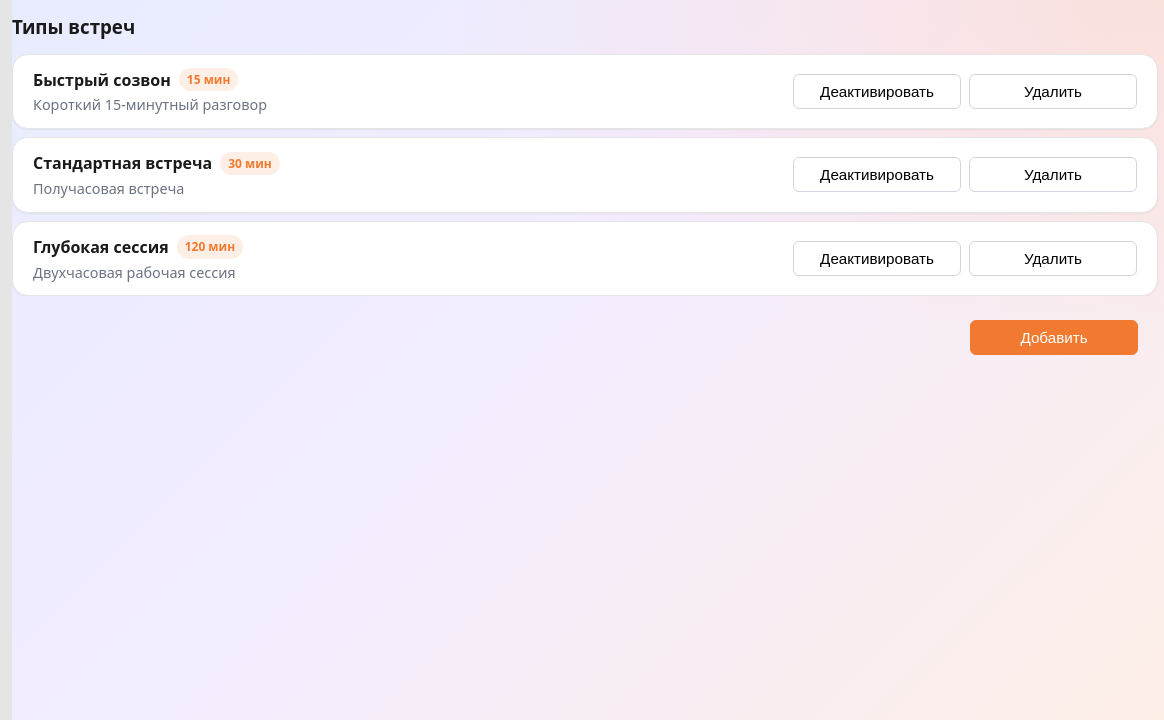
Test: EventTypeManager › показывает ошибку 409 при удалении типа с бронированиями
Click the button "Удалить" in the row of "Короткий 15-минутный разговор" at (1053, 91), box left=969, top=74, right=1137, bottom=109
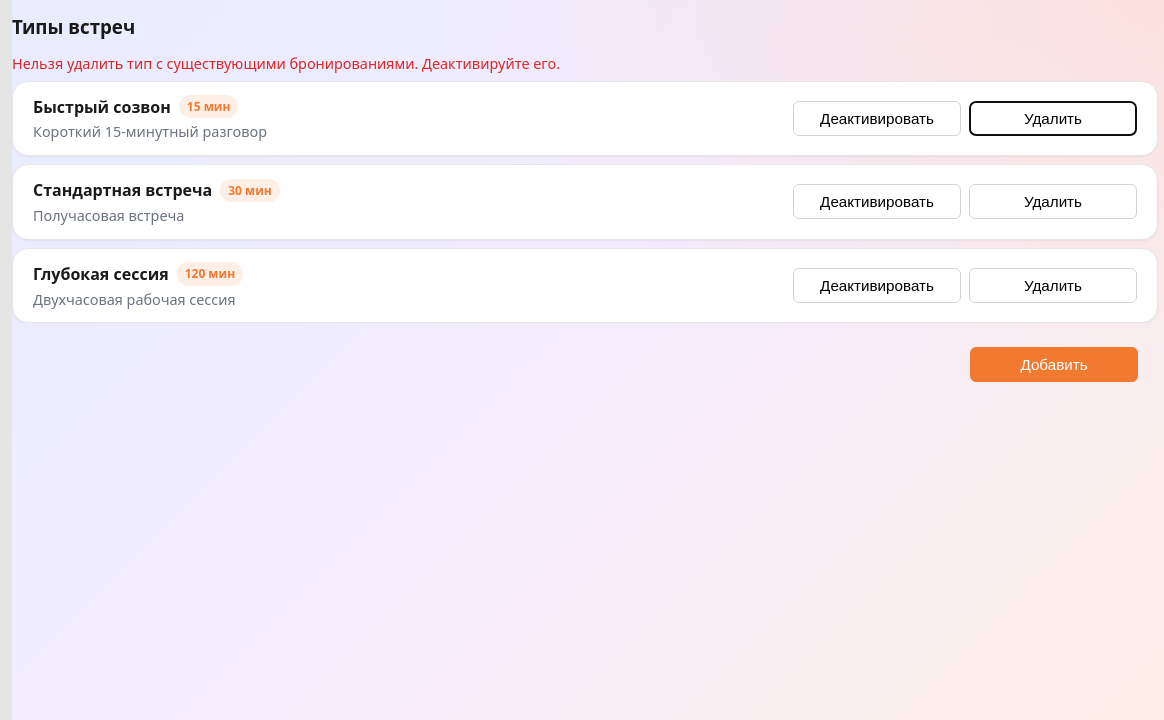
Expected: the message reads "Нельзя удалить тип с существующими бронированиями. Деактивируйте его.", left=12, top=54, right=560, bottom=72
